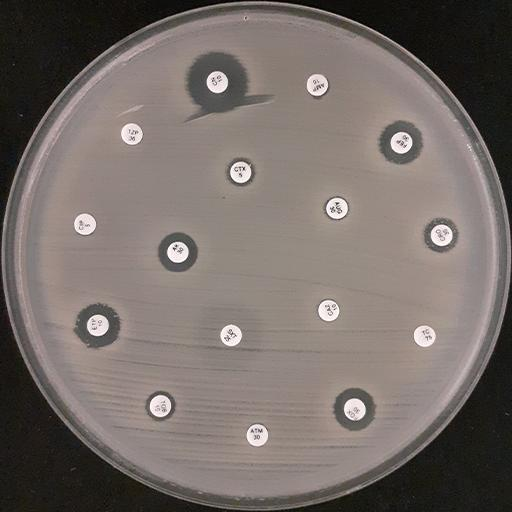disc: (121, 123, 143, 145), (326, 197, 348, 219), (317, 300, 339, 322), (344, 398, 366, 420), (207, 71, 228, 93), (307, 74, 328, 96), (391, 132, 412, 154), (230, 161, 251, 183), (430, 225, 452, 246), (167, 242, 189, 263), (87, 314, 108, 336), (414, 325, 436, 346), (150, 395, 171, 417), (247, 424, 268, 446), (220, 325, 241, 346), (74, 214, 96, 234)
